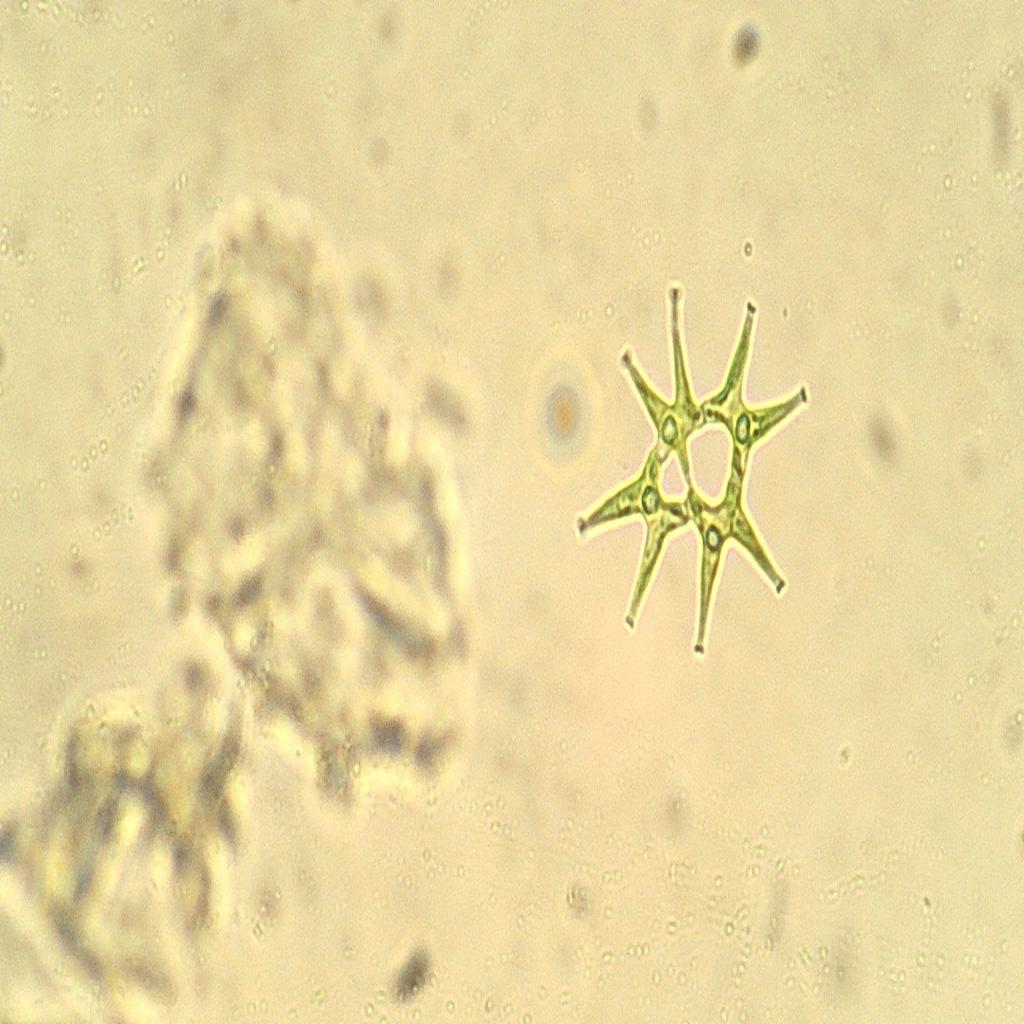Pediastrum_75FO: (574, 273, 817, 674)
